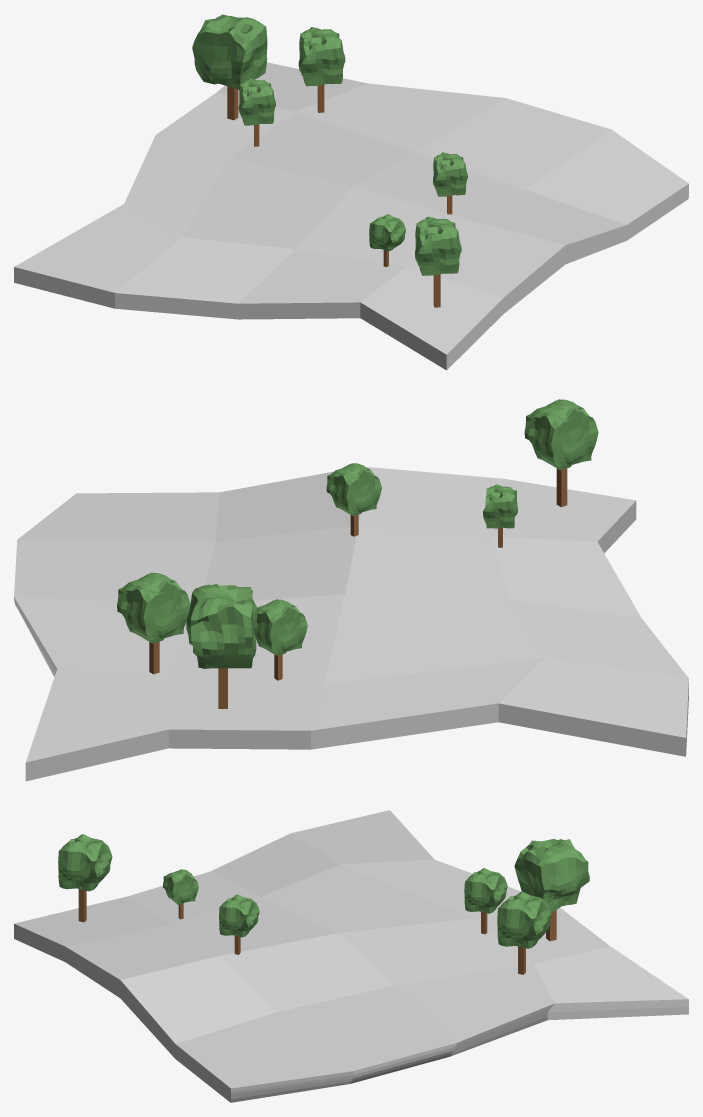
Rendered from island2.glb.
The picture shows the model from 3 angles, top to bottom: view 1: azimuth 30°, elevation 25°; view 2: azimuth 150°, elevation 25°; view 3: azimuth 270°, elevation 25°; orthographic projection. The views are drawn at different scales.
Parts seen in each view (by area): view 1: Hill.002, Tree.017, Tree.020, Tree.019, Tree.018, Tree.022, Tree.021; view 2: Hill.002, Tree.017, Tree.020, Tree.019, Tree.018, Tree.022, Tree.021; view 3: Hill.002, Tree.017, Tree.019, Tree.020, Tree.018, Tree.022, Tree.021.
Part boxes in pixels (left/top/right/bottom): Hill.002: left=14, top=62, right=688, bottom=370; Tree.017: left=192, top=14, right=267, bottom=89; Tree.020: left=415, top=216, right=461, bottom=275; Tree.019: left=298, top=27, right=345, bottom=86; Tree.018: left=238, top=78, right=275, bottom=125; Tree.022: left=433, top=152, right=467, bottom=196; Tree.021: left=369, top=214, right=405, bottom=251; Hill.002: left=14, top=467, right=688, bottom=781; Tree.017: left=186, top=584, right=257, bottom=668; Tree.020: left=524, top=399, right=598, bottom=470; Tree.019: left=117, top=572, right=190, bottom=643; Tree.018: left=254, top=599, right=307, bottom=655; Tree.022: left=326, top=463, right=381, bottom=516; Tree.021: left=483, top=484, right=517, bottom=528; Hill.002: left=14, top=810, right=688, bottom=1102; Tree.017: left=514, top=839, right=589, bottom=912; Tree.019: left=497, top=891, right=551, bottom=948; Tree.020: left=58, top=834, right=112, bottom=891; Tree.018: left=464, top=868, right=507, bottom=913; Tree.022: left=219, top=894, right=259, bottom=937; Tree.021: left=163, top=869, right=198, bottom=904.
Bounding box in the file's own units: 2.31 × 0.4839 × 2.37.
